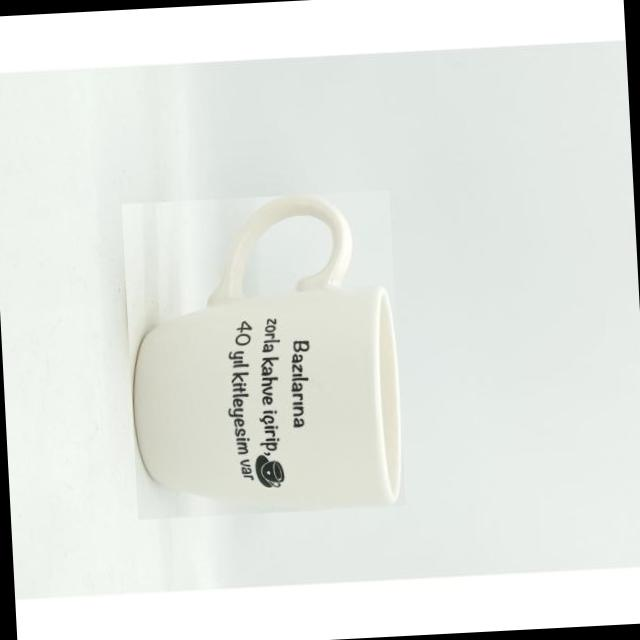Coffee Mug: (120, 190, 404, 520)
